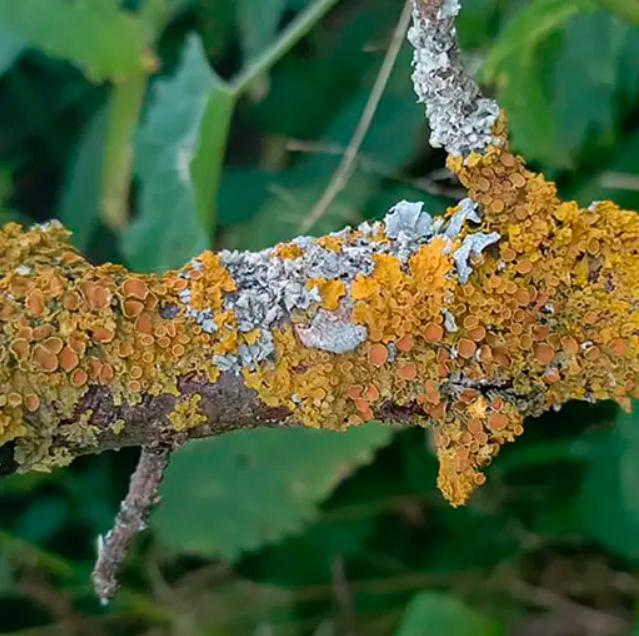lichen: (0, 13, 638, 512)
